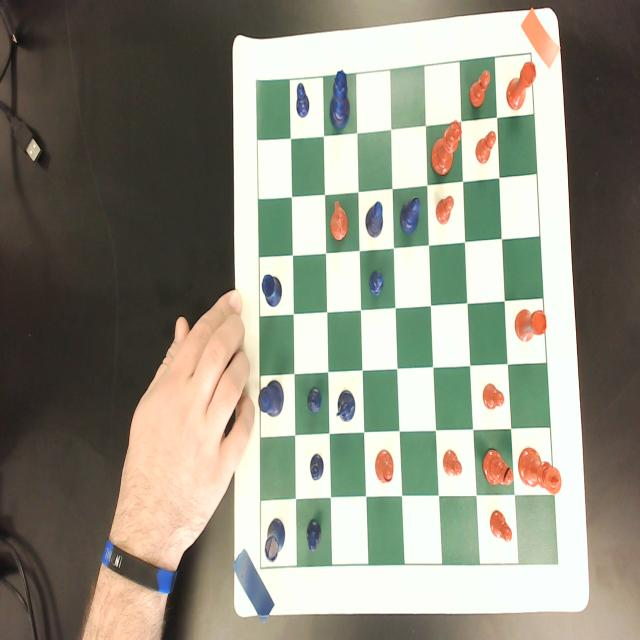B: (400, 197, 421, 235), (365, 200, 384, 238)
K: (258, 379, 284, 418)
N: (336, 389, 356, 422)
P: (296, 81, 310, 118), (307, 518, 322, 552), (309, 452, 324, 480), (368, 270, 384, 296), (307, 387, 322, 414)
Q: (330, 69, 350, 129)
R: (265, 517, 285, 562), (261, 273, 282, 307)
b: (483, 447, 514, 490), (375, 449, 394, 484)
k: (518, 446, 562, 494)
n: (330, 202, 349, 242)
p: (468, 68, 491, 109), (490, 509, 512, 543), (475, 130, 496, 164), (482, 383, 505, 411), (443, 449, 462, 479), (436, 194, 454, 225)
q: (431, 121, 462, 176)
r: (506, 60, 539, 110), (513, 307, 549, 343)
